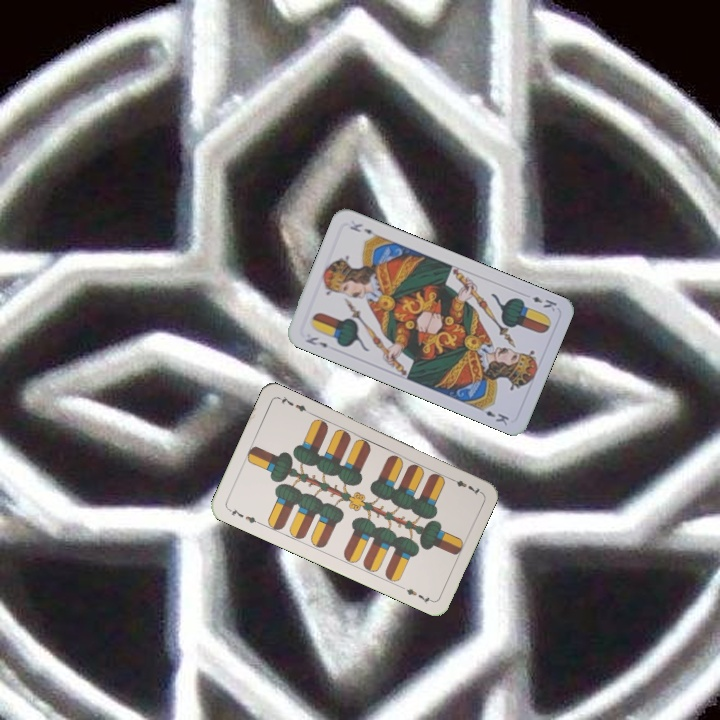E7: (445, 473, 483, 498), (224, 504, 262, 527)
EK: (528, 292, 559, 314), (301, 333, 330, 350)
